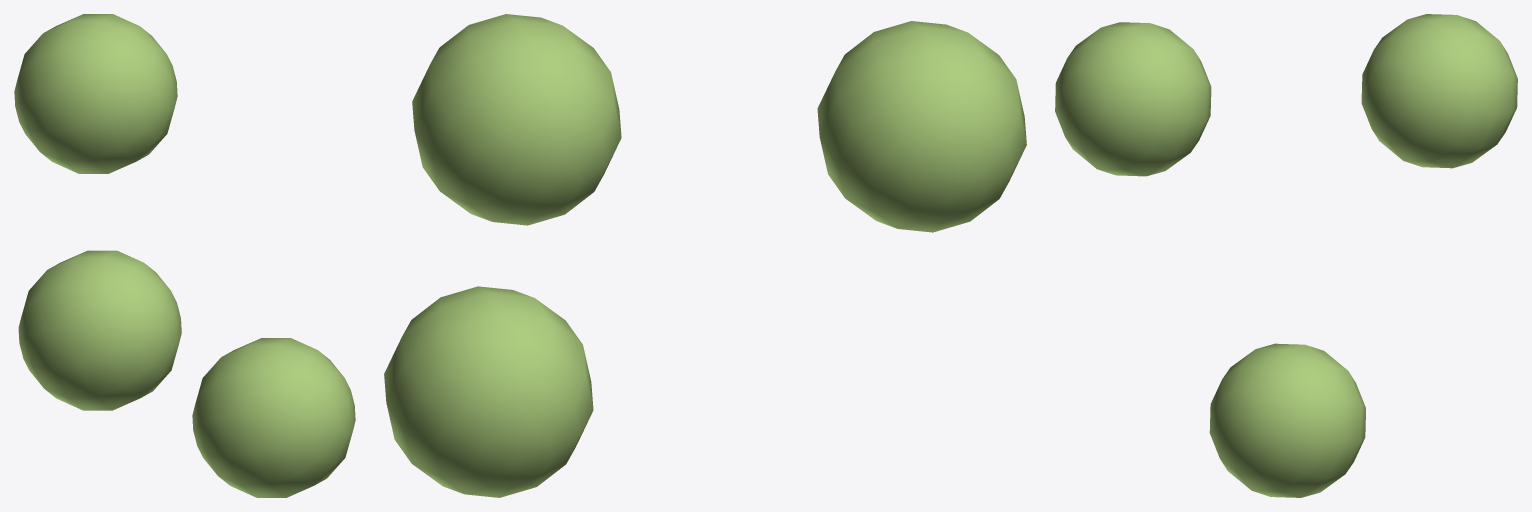
File: bucinator-node-l.glb
The picture shows the model from 3 angles, left to right: view 1: azimuth 30°, elevation 25°; view 2: azimuth 150°, elevation 25°; view 3: azimuth 270°, elevation 25°; orthographic projection. The views are drawn at different scales.
Visible parts, largest first — view 1: Bucinator node.l; view 2: Bucinator node.l; view 3: Bucinator node.l.
Boxes of the visible parts, box(x1,y1,x2,y2) form: Bucinator node.l: box(14, 14, 355, 497); Bucinator node.l: box(384, 14, 1026, 497); Bucinator node.l: box(1055, 14, 1517, 497).
Bounding box in the file's own units: 0.00723 × 0.0077 × 0.00758.
